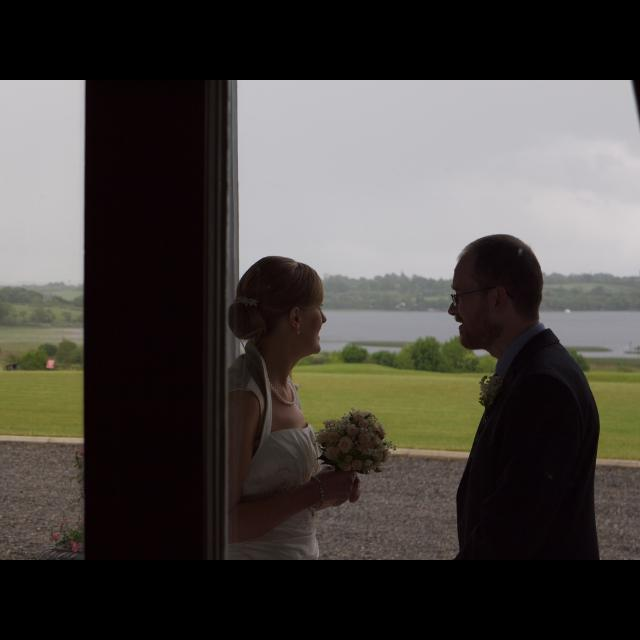Flower: (307, 407, 401, 485), (478, 376, 504, 409), (336, 436, 352, 454), (60, 516, 70, 530), (70, 540, 80, 554), (74, 448, 85, 458), (51, 532, 59, 542), (79, 518, 83, 526)
